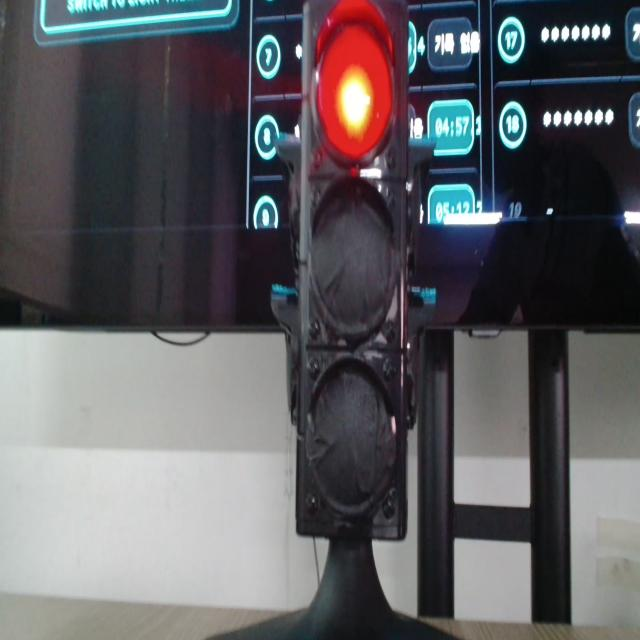red_light: (317, 24, 392, 159)
